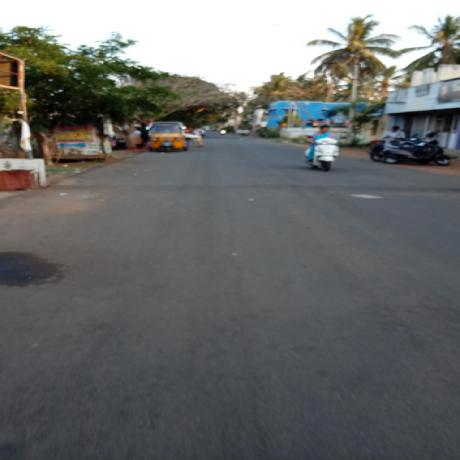Speed Bump: (44, 182, 459, 198)
